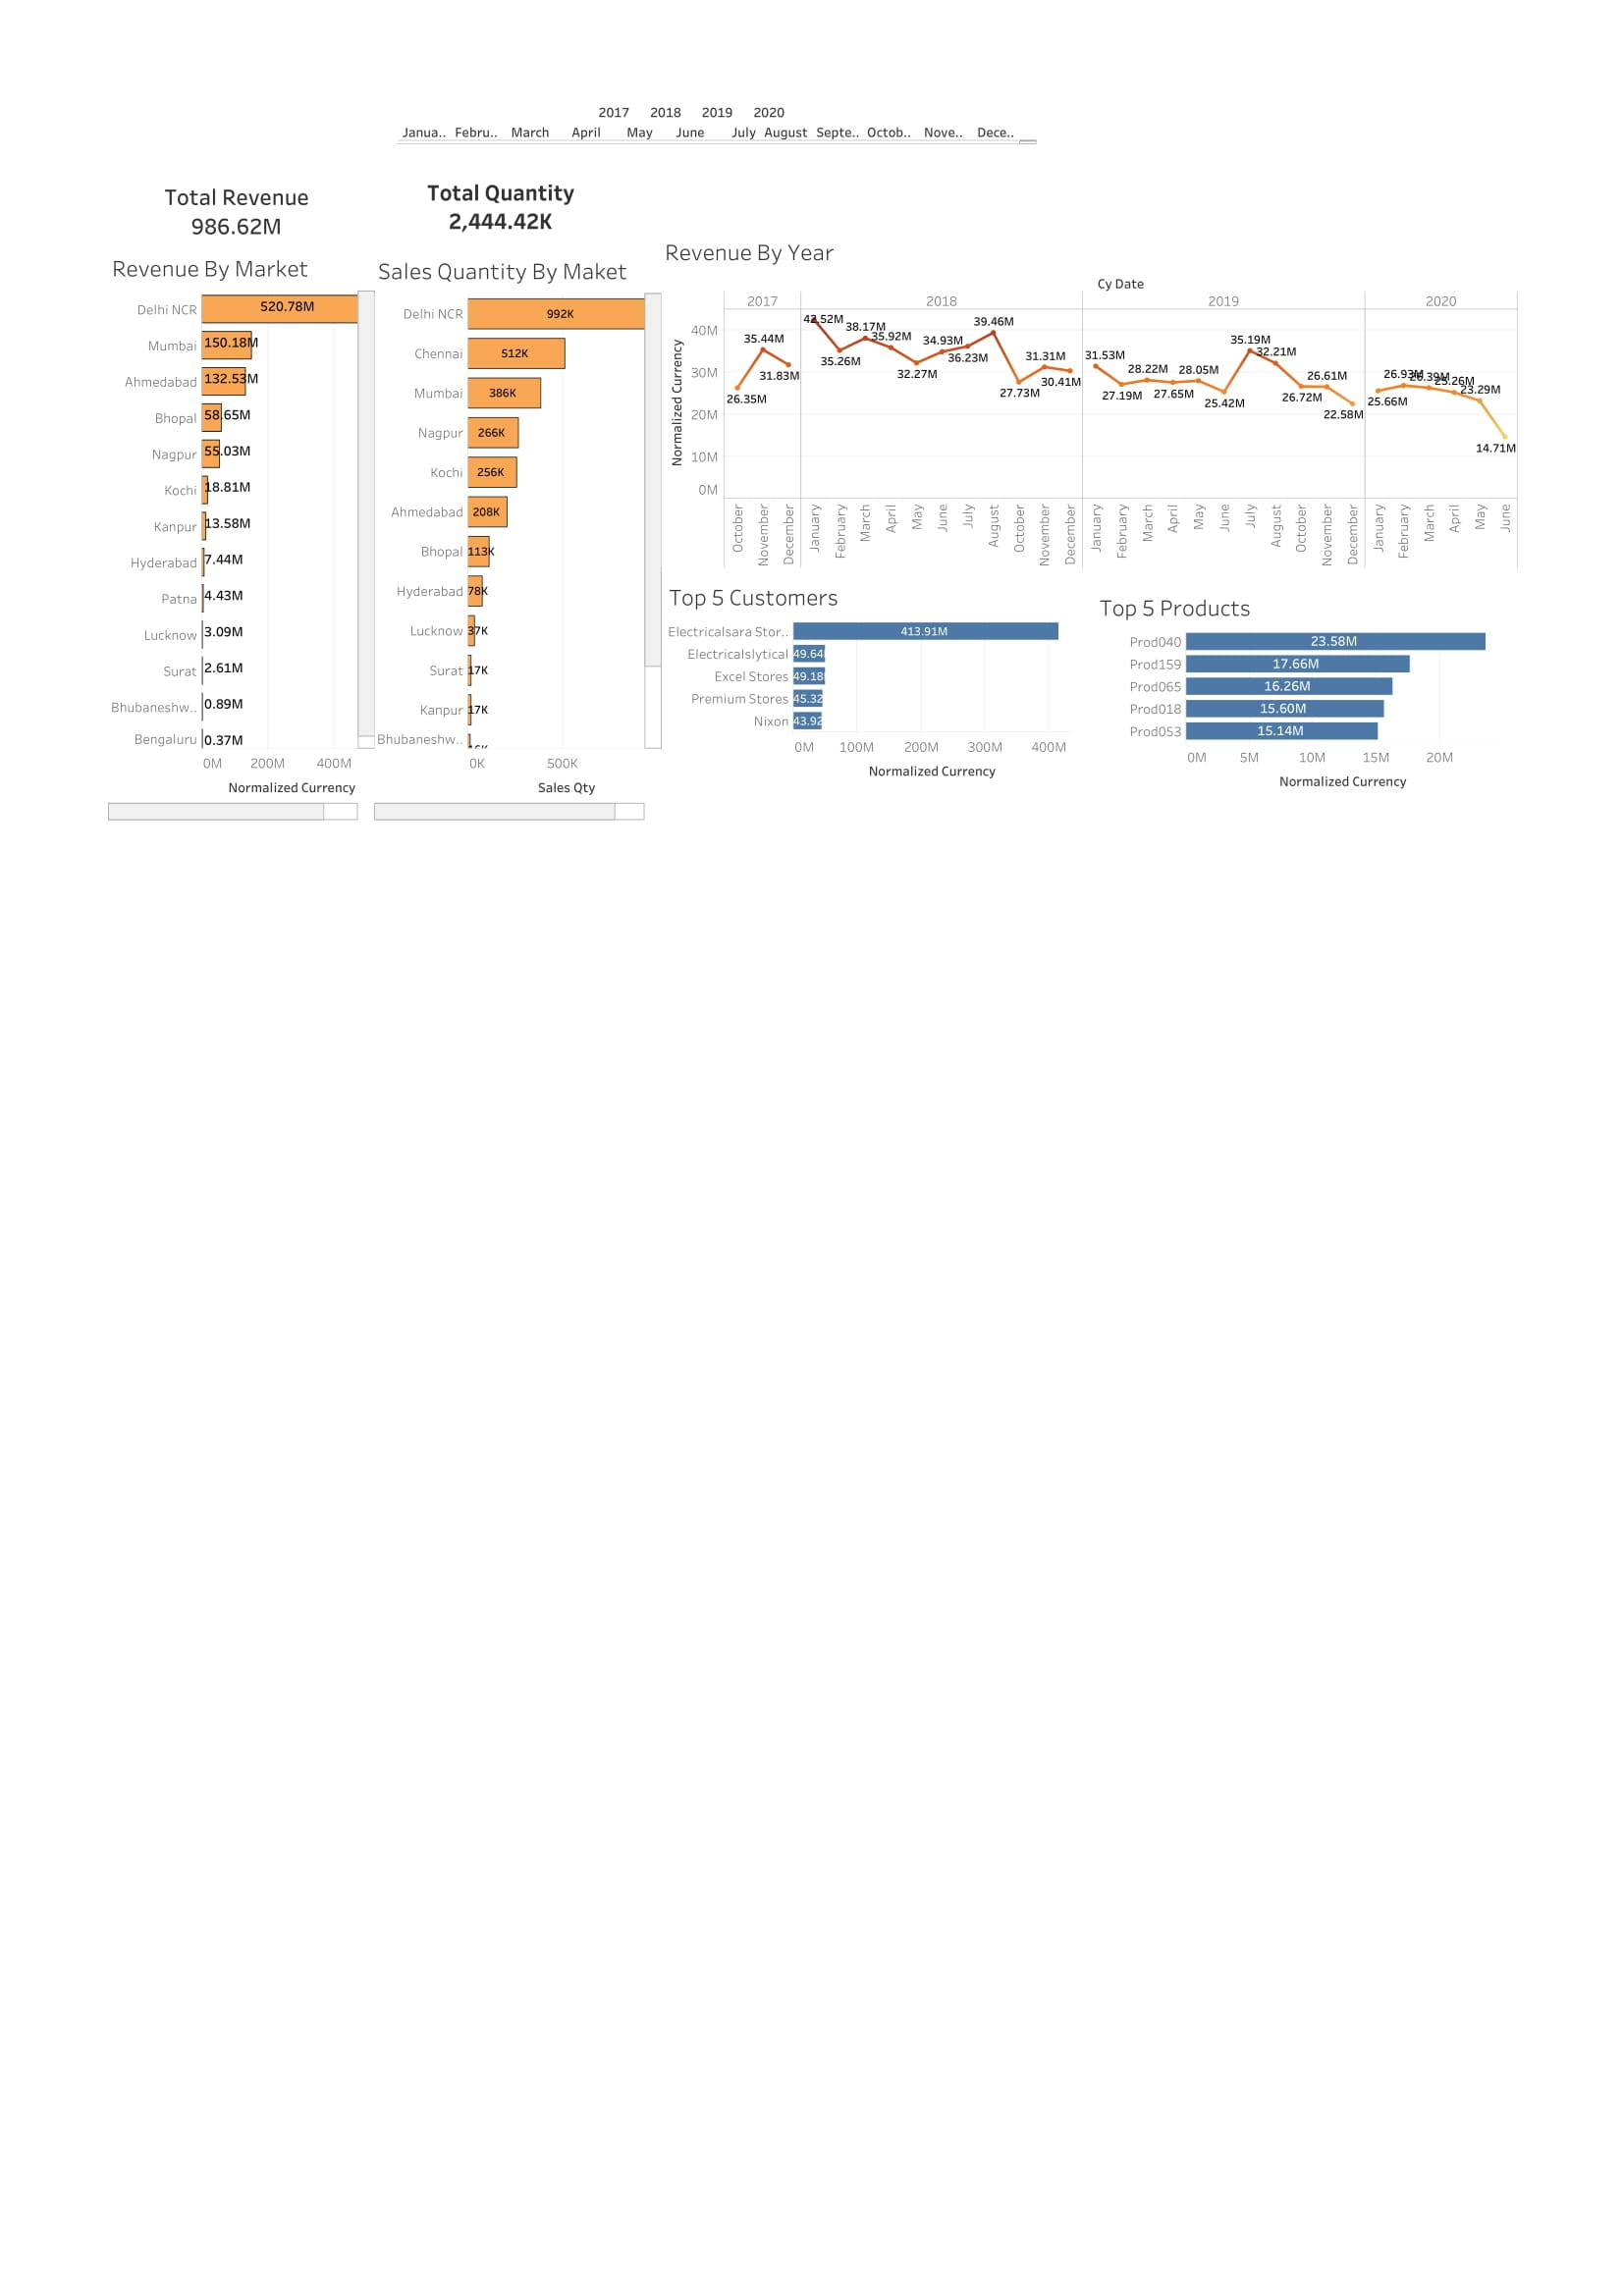

What the dashboard file says about the page in this screenshot:
{"tool":"tableau","page":{"name":"Sales Inshights dashboard","canvas":[1000,1000],"units":"permille","ordinal":0},"visuals":[{"type":"worksheet","title":"year","mark":"Automatic","cols":["cy_date"],"box":[343.4,7,184.7,24.7]},{"type":"worksheet","title":"Month","mark":"Automatic","cols":["date"],"box":[210,34.1,503.3,29.4]},{"type":"worksheet","title":"Quantity","mark":"Automatic","box":[228.1,108.1,138.8,111.6]},{"type":"worksheet","title":"Revenue","mark":"Automatic","box":[42.9,114,145.4,114]},{"type":"worksheet","title":"Revenue By Year","mark":"Automatic","rows":["Calculation_889742462179799041"],"cols":["cy_date","cy_date"],"box":[394.7,182.1,601.1,459.5]},{"type":"worksheet","title":"Revenue By Market","mark":"Automatic","rows":["markets_name"],"cols":["Calculation_889742462179799041"],"box":[7.2,204.5,187.1,781.4]},{"type":"worksheet","title":"Sales Quantity By Maket","mark":"Automatic","rows":["markets_name"],"cols":["sales_qty"],"box":[193.7,208,201.6,767.3]},{"type":"worksheet","title":"Top 5 Customers","mark":"Automatic","rows":["custmer_name"],"cols":["Calculation_889742462179799041"],"box":[397.7,653.4,284.2,303.2]},{"type":"worksheet","title":"Top 5 Products","mark":"Automatic","rows":["product_code (products)"],"cols":["Calculation_889742462179799041"],"box":[699.5,667.5,283,293.8]},{"type":"blank","box":[700.7,667.5,281.2,299.7]}]}

Visuals, with their boxes on the dashboard's canvas, which has no fixed pixel size, in thousandths of its width and height (x1, y1, x2, y2). These are canvas units, not pixel positions in the 1623x2296 screenshot, which may show the page scaled, cropped or inside an application window:
"year" worksheet: (343, 7, 528, 32)
"Month" worksheet: (210, 34, 713, 64)
"Quantity" worksheet: (228, 108, 367, 220)
"Revenue" worksheet: (43, 114, 188, 228)
"Revenue By Year" worksheet: (395, 182, 996, 642)
"Revenue By Market" worksheet: (7, 204, 194, 986)
"Sales Quantity By Maket" worksheet: (194, 208, 395, 975)
"Top 5 Customers" worksheet: (398, 653, 682, 957)
"Top 5 Products" worksheet: (700, 668, 982, 961)
blank: (701, 668, 982, 967)
